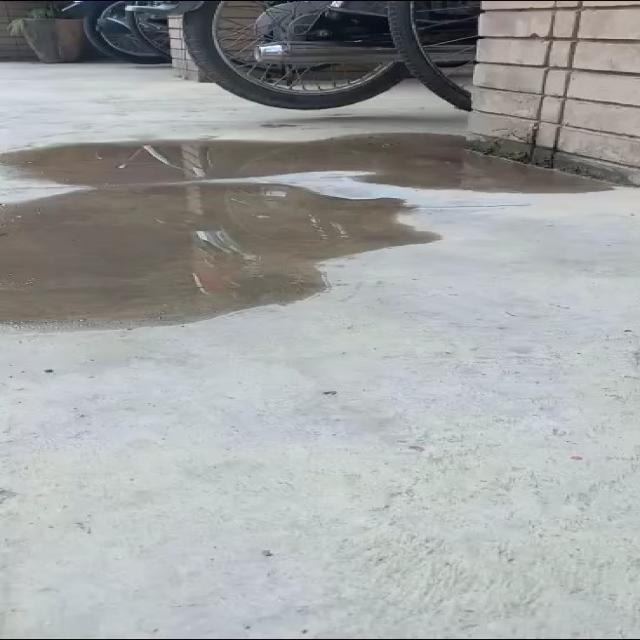water accumulation: (1, 131, 618, 330)
